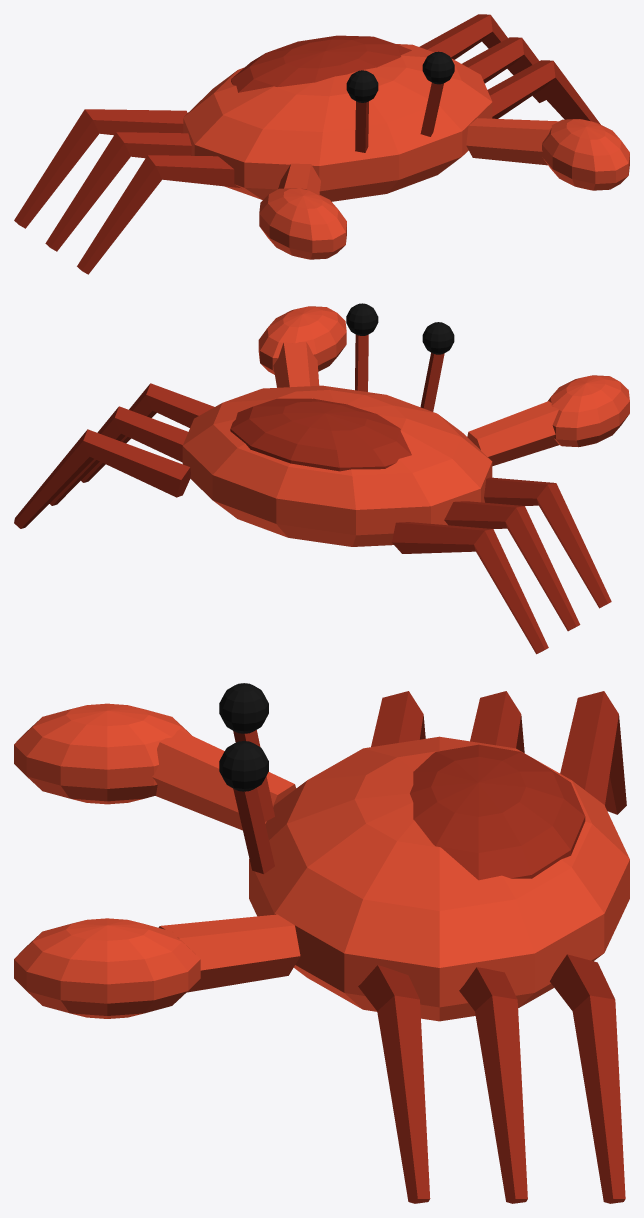
File: crab.glb
3 views of the same model, one above another, from view 1: azimuth 30°, elevation 25°; view 2: azimuth 150°, elevation 25°; view 3: azimuth 270°, elevation 25° (orthographic). The views are drawn at different scales.
Visible parts, largest first — view 1: crab; view 2: crab; view 3: crab.
Part boxes in pixels (x1,y1,x2,y2): crab: (14, 14, 629, 274); crab: (14, 303, 629, 654); crab: (14, 683, 629, 1203).
Bounding box in the file's own units: 0.489 × 0.1665 × 0.3153.
